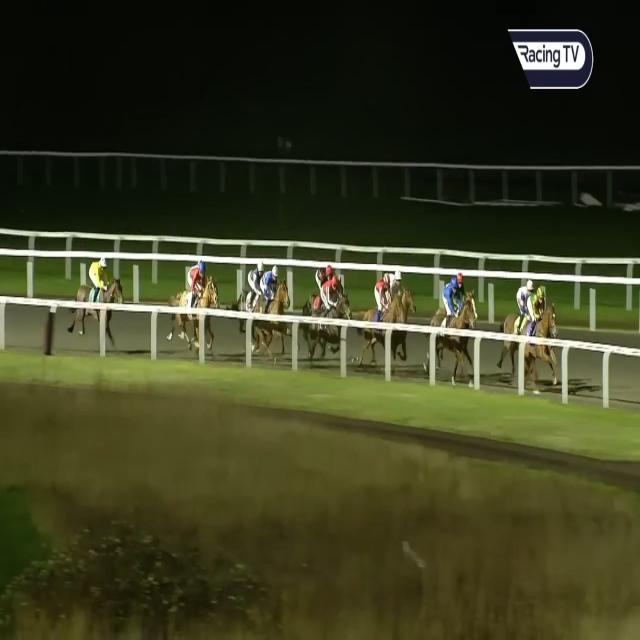horses-racing: (166, 259, 224, 342), (65, 261, 134, 328), (306, 271, 356, 363), (364, 270, 408, 361), (250, 255, 295, 343), (435, 273, 479, 361), (522, 293, 561, 364), (506, 276, 542, 352), (235, 260, 273, 308), (387, 271, 415, 320), (307, 259, 337, 303), (185, 254, 215, 285), (454, 272, 472, 320)
